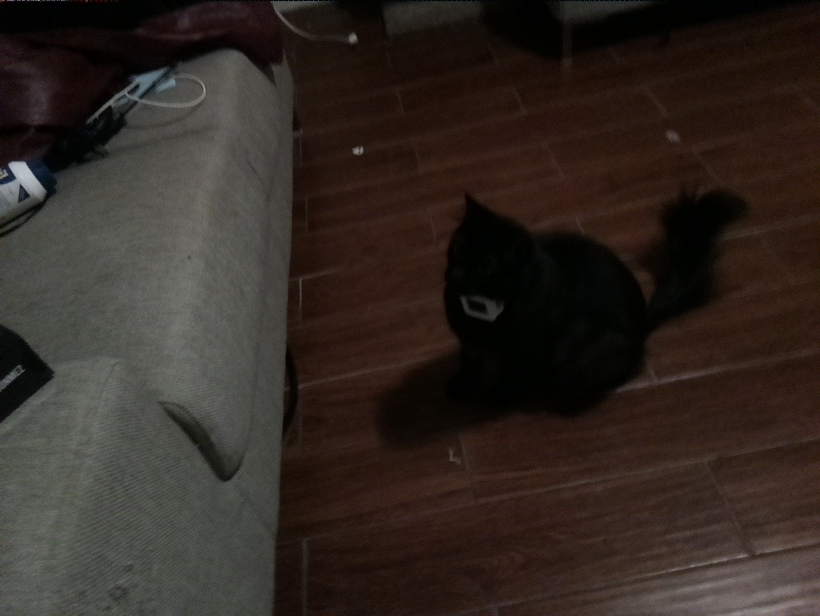cat: (400, 172, 753, 402)
